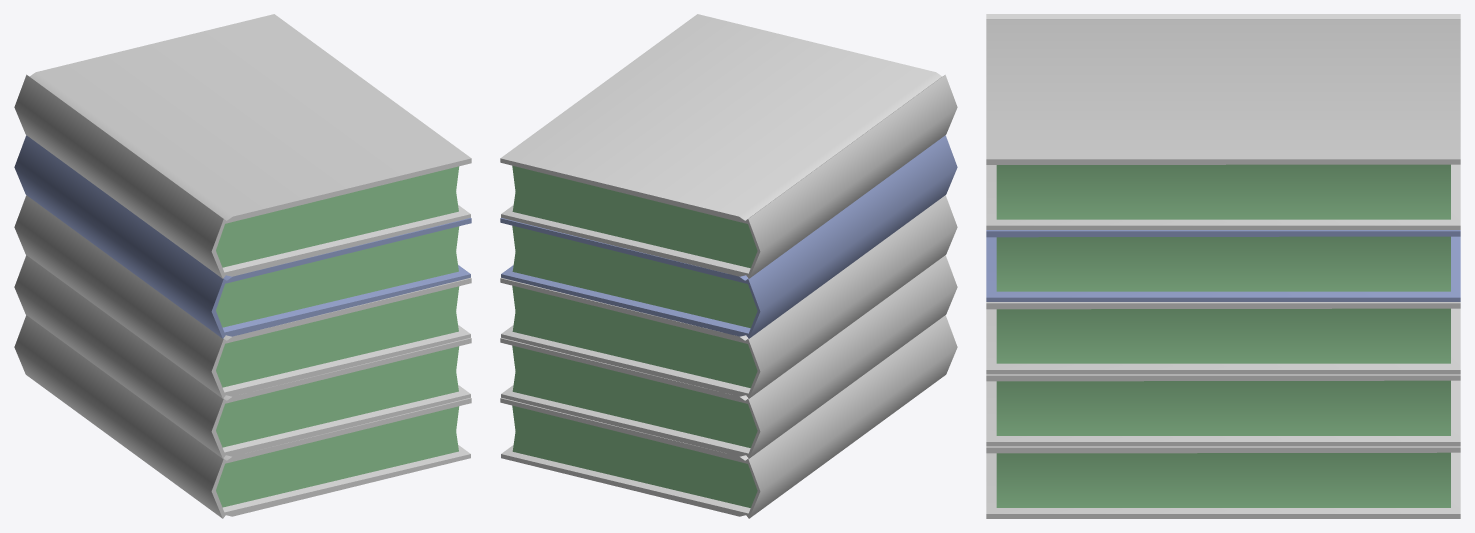
The model's file is SSYXING05.FBX.
The picture shows the model from 3 angles, left to right: view 1: azimuth 30°, elevation 25°; view 2: azimuth 150°, elevation 25°; view 3: azimuth 270°, elevation 25°; orthographic projection. The views are drawn at different scales.
Parts seen in each view (by area): view 1: SSYXING05; view 2: SSYXING05; view 3: SSYXING05.
Part boxes in pixels (x1,y1,x2,y2): SSYXING05: (14,14,471,518); SSYXING05: (500,14,957,518); SSYXING05: (986,14,1460,518).
Bounding box in the file's own units: 41.39 × 45.61 × 54.36.
